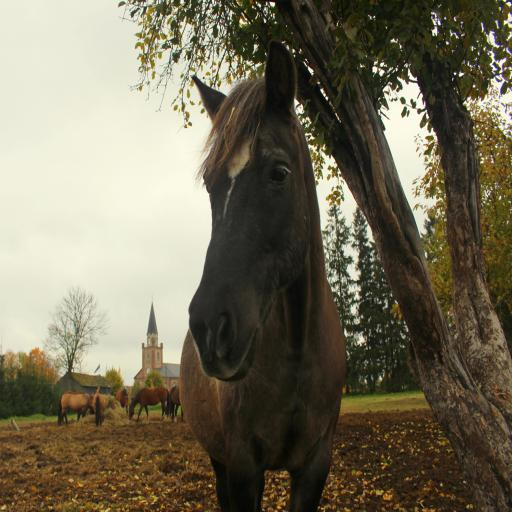horse: (177, 38, 350, 512), (128, 388, 168, 424), (58, 391, 92, 424), (166, 386, 182, 424), (88, 390, 104, 424), (116, 390, 128, 404)
